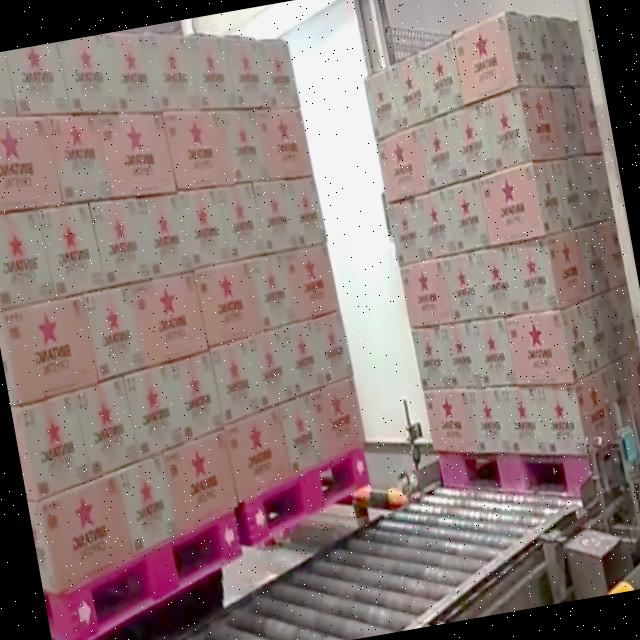pallet: (351, 0, 640, 551), (0, 25, 258, 640), (146, 0, 390, 556)
